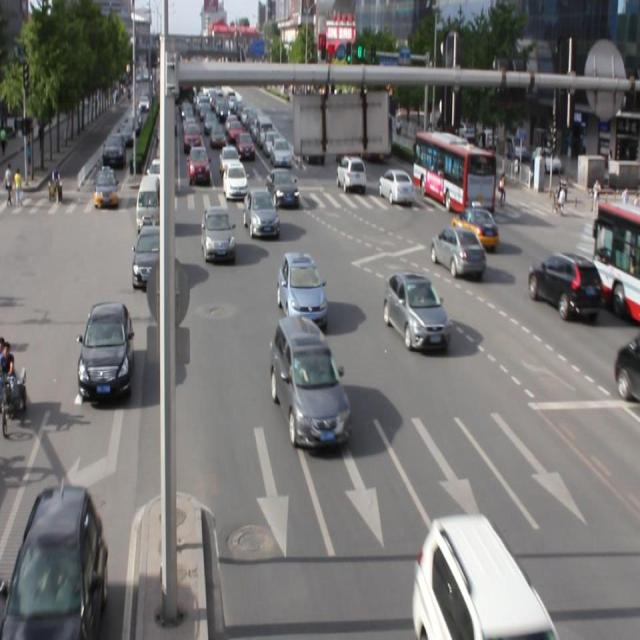car: (415, 515, 551, 640), (9, 488, 110, 640), (270, 316, 352, 452), (78, 306, 134, 406), (385, 271, 447, 356), (527, 253, 600, 324), (277, 252, 327, 330), (429, 227, 483, 280), (134, 226, 168, 298), (449, 204, 497, 252), (200, 208, 236, 266), (244, 190, 279, 242)
van: (592, 200, 640, 329)
